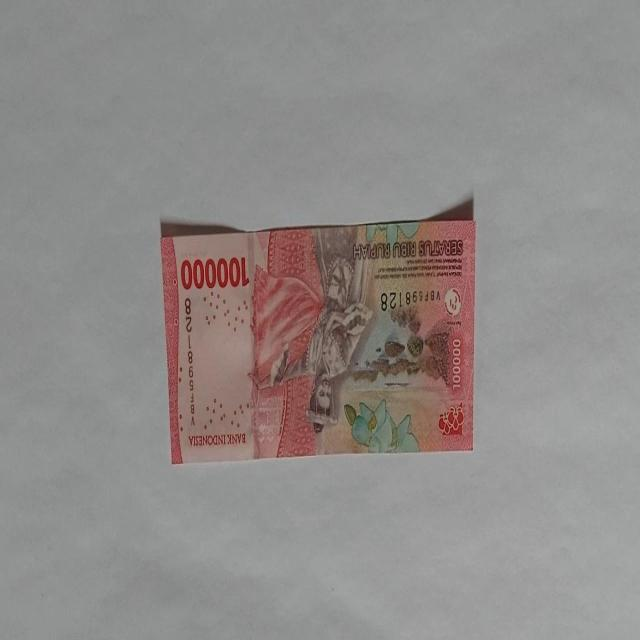Kertas: (160, 204, 476, 464), (180, 253, 250, 291)
